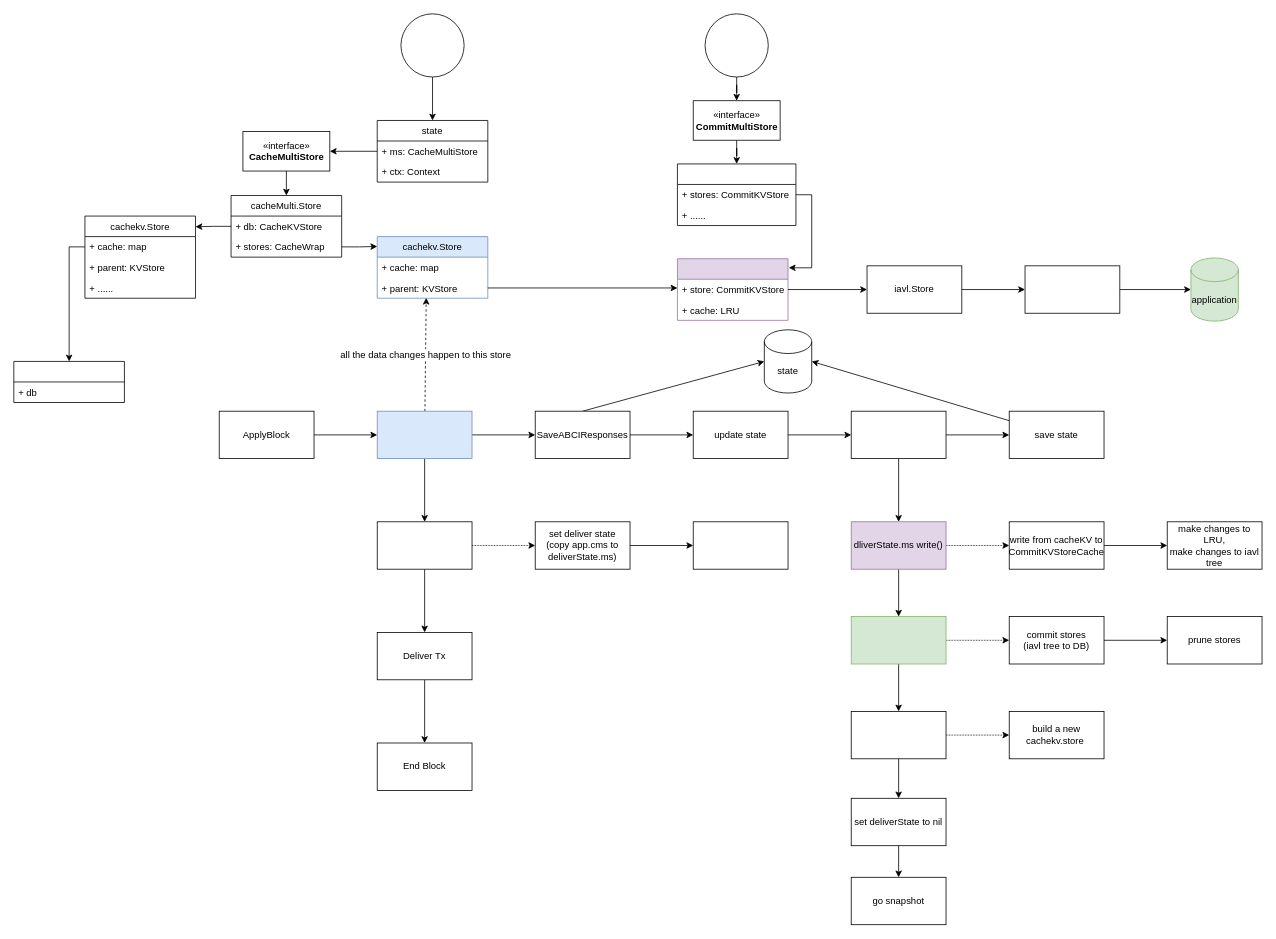
Some shapes in this 1276 by 939 pixel diagram are drawn without their labels. The shapes that lost their labels are listed below. From the top down, each one's box as (x1, y1, x2, y2) in pixels, then its label:
(400, 13, 464, 77): app.deliverstate
(704, 13, 768, 77): app.cms
(677, 163, 796, 226): rootMulti.Store
(677, 258, 788, 320): CommitKVStoreCache
(1024, 265, 1120, 313): iavl. MutableTree
(13, 361, 124, 403): dbadapter.Store
(376, 410, 472, 459): execBlockOnProxyApp
(850, 410, 946, 459): Commit
(376, 521, 472, 569): Begin Block
(692, 521, 788, 569): app.beginBlocker
(850, 616, 946, 664): app.cms commit
(850, 711, 946, 759): set check state (copy app.cms to checkState.ms)
